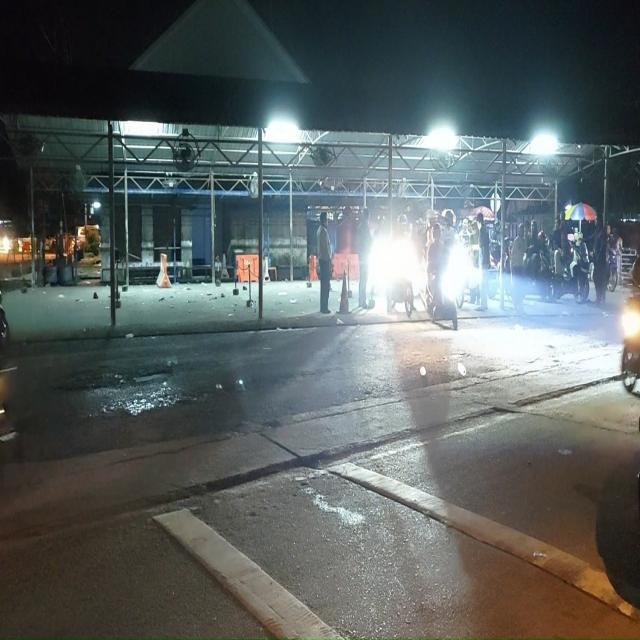Golongan II: (427, 254, 464, 330), (553, 239, 590, 304), (621, 297, 640, 393), (520, 247, 552, 301), (387, 277, 415, 318), (608, 248, 618, 293)
